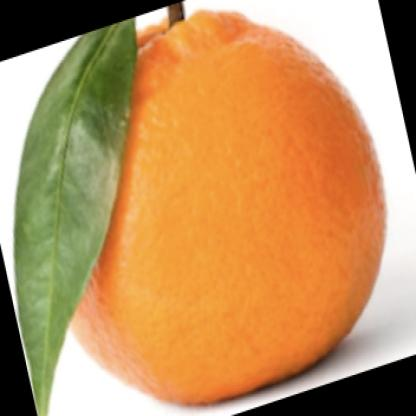fresh: (53, 17, 387, 403)
